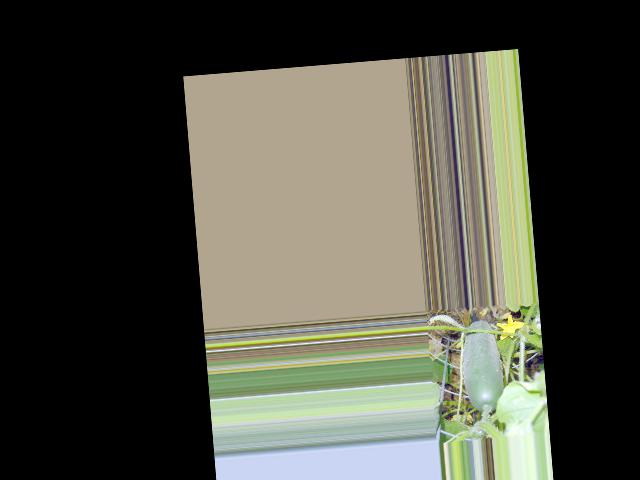cucumber: (458, 319, 505, 413)
